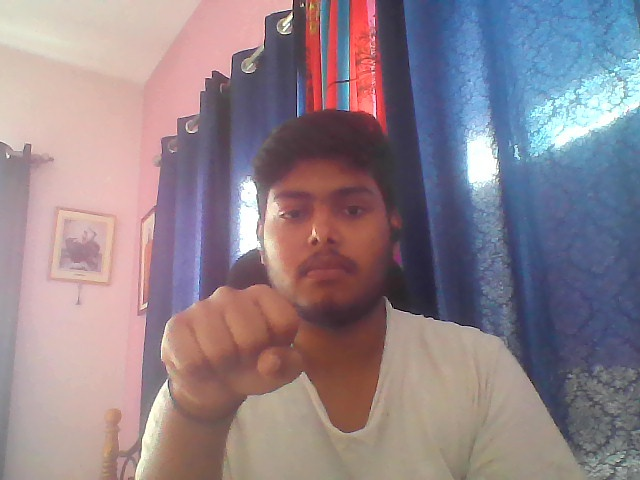Yes: (147, 277, 317, 428)
